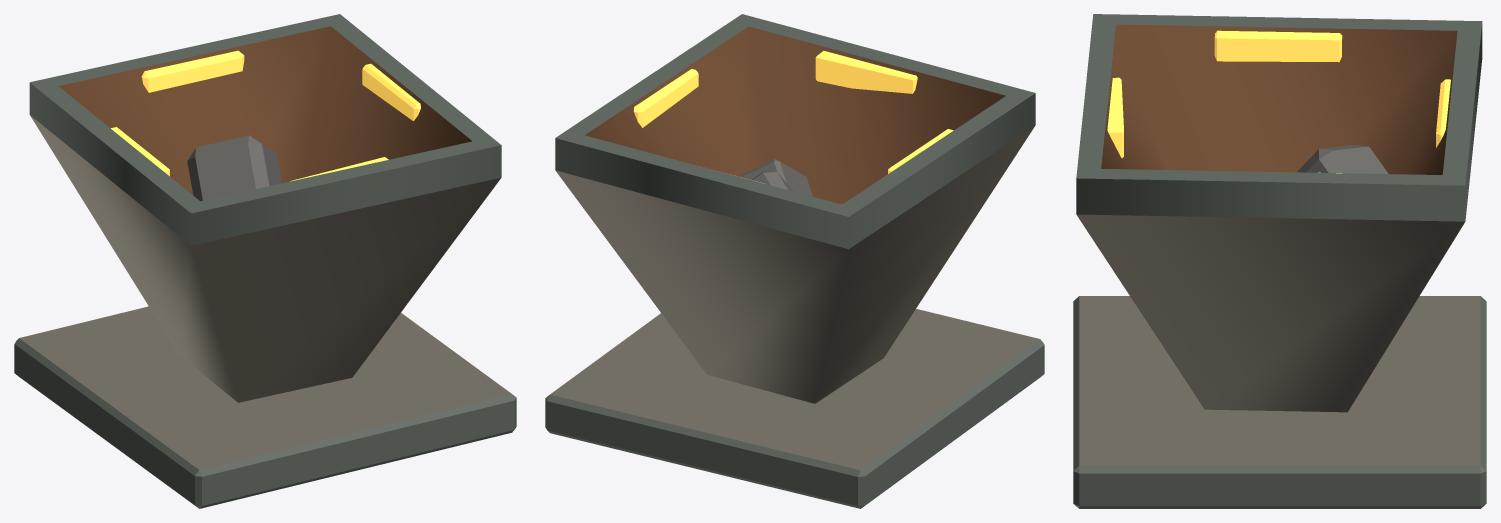
The model's file is R4X_SalvageOptimizer_LOD1.fbx.
3 views of the same model, side by side, from view 1: azimuth 30°, elevation 25°; view 2: azimuth 150°, elevation 25°; view 3: azimuth 270°, elevation 25° (orthographic). The views are drawn at different scales.
Parts seen in each view (by area): view 1: R4X_SalvageOptimizer_LOD1; view 2: R4X_SalvageOptimizer_LOD1; view 3: R4X_SalvageOptimizer_LOD1.
Boxes of the visible parts, bbox=[...] form: R4X_SalvageOptimizer_LOD1: bbox=[14, 14, 516, 508]; R4X_SalvageOptimizer_LOD1: bbox=[545, 14, 1044, 508]; R4X_SalvageOptimizer_LOD1: bbox=[1073, 14, 1486, 508].
Size of the model in its own units: 0.52 by 0.45 by 0.52.
